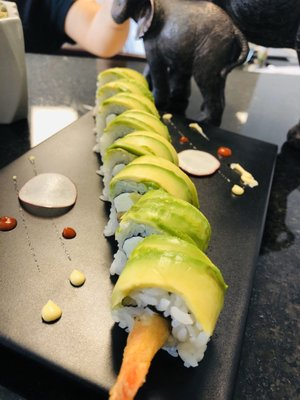pasta: (92, 45, 253, 395), (93, 68, 203, 208)
